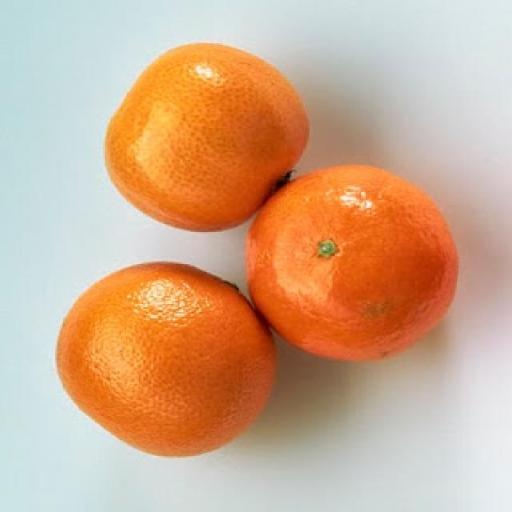fruit: (56, 264, 274, 455), (246, 166, 456, 359), (105, 44, 307, 230)
